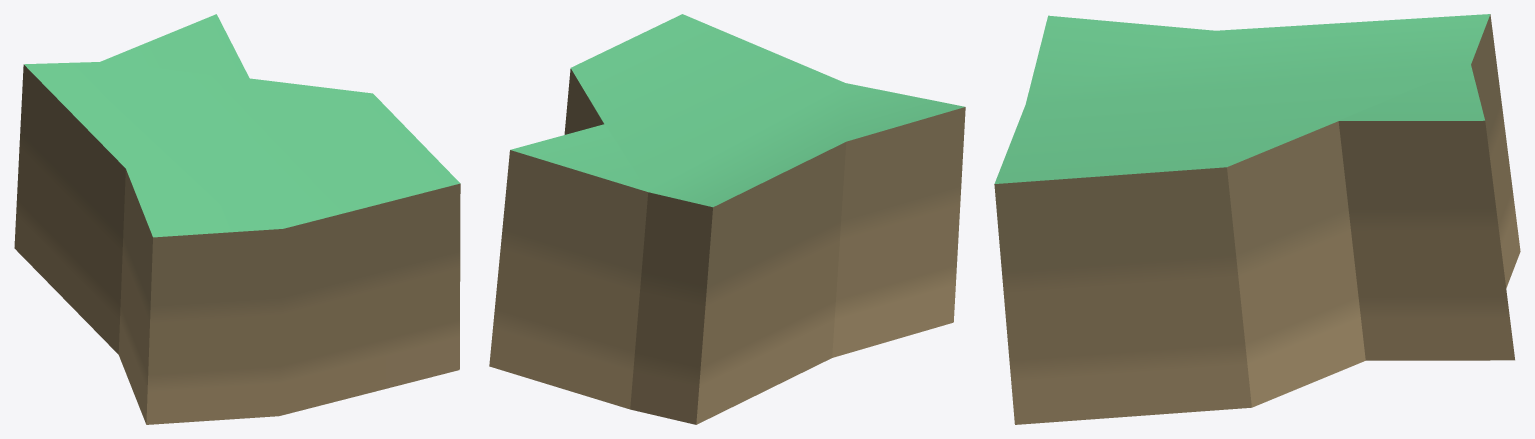
File: 063a_Ghana.glb
The picture shows the model from 3 angles, left to right: view 1: azimuth 30°, elevation 25°; view 2: azimuth 150°, elevation 25°; view 3: azimuth 270°, elevation 25°; orthographic projection. The views are drawn at different scales.
Visible parts, largest first — view 1: part_0; view 2: part_0; view 3: part_0.
Part boxes in pixels (left/top/right/bottom): part_0: left=14, top=14, right=460, bottom=424; part_0: left=489, top=14, right=965, bottom=424; part_0: left=994, top=14, right=1520, bottom=424.
Bounding box in the file's own units: 0.323 × 0.247 × 0.402.
1 material, 1 textured.
